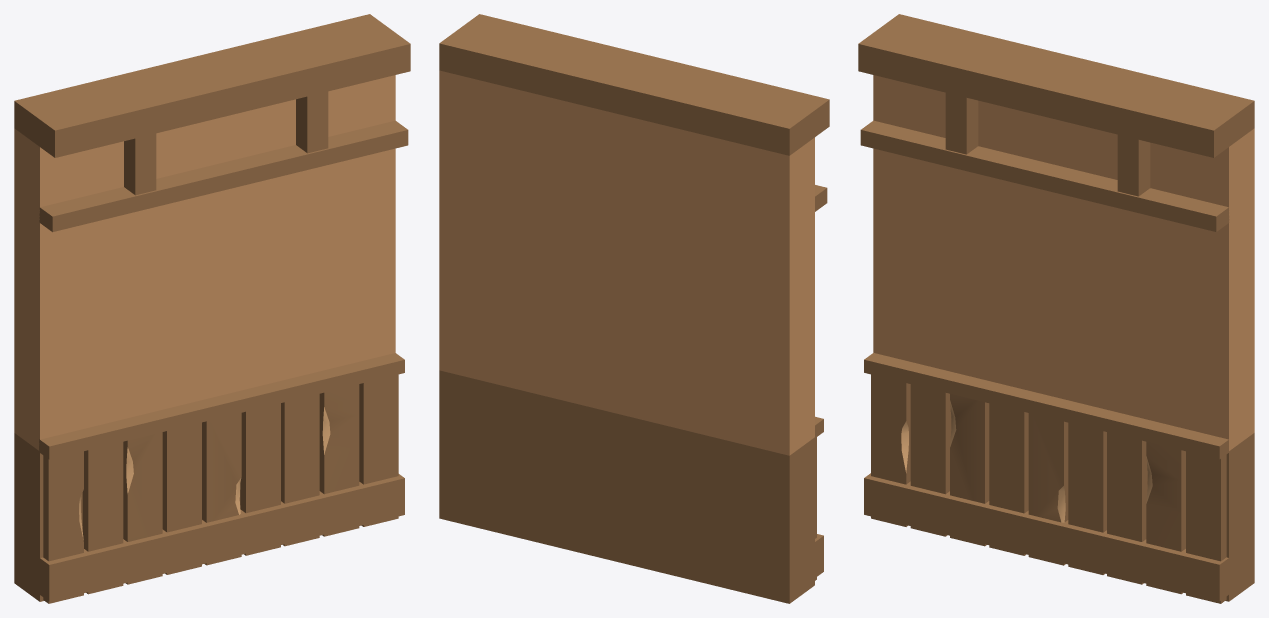
File: wall_normal.glb
3 views of the same model, side by side, from view 1: azimuth 30°, elevation 25°; view 2: azimuth 150°, elevation 25°; view 3: azimuth 330°, elevation 25° (orthographic).
Parts seen in each view (by area): view 1: Wall_Normal; view 2: Wall_Normal; view 3: Wall_Normal.
Part boxes in pixels (bbox=[...]): Wall_Normal: bbox=[14, 14, 410, 603]; Wall_Normal: bbox=[439, 14, 829, 603]; Wall_Normal: bbox=[858, 14, 1254, 603].
Bounding box in the file's own units: 4 × 5.18 × 0.7949.
Materials: 1 (1 with a texture image).
